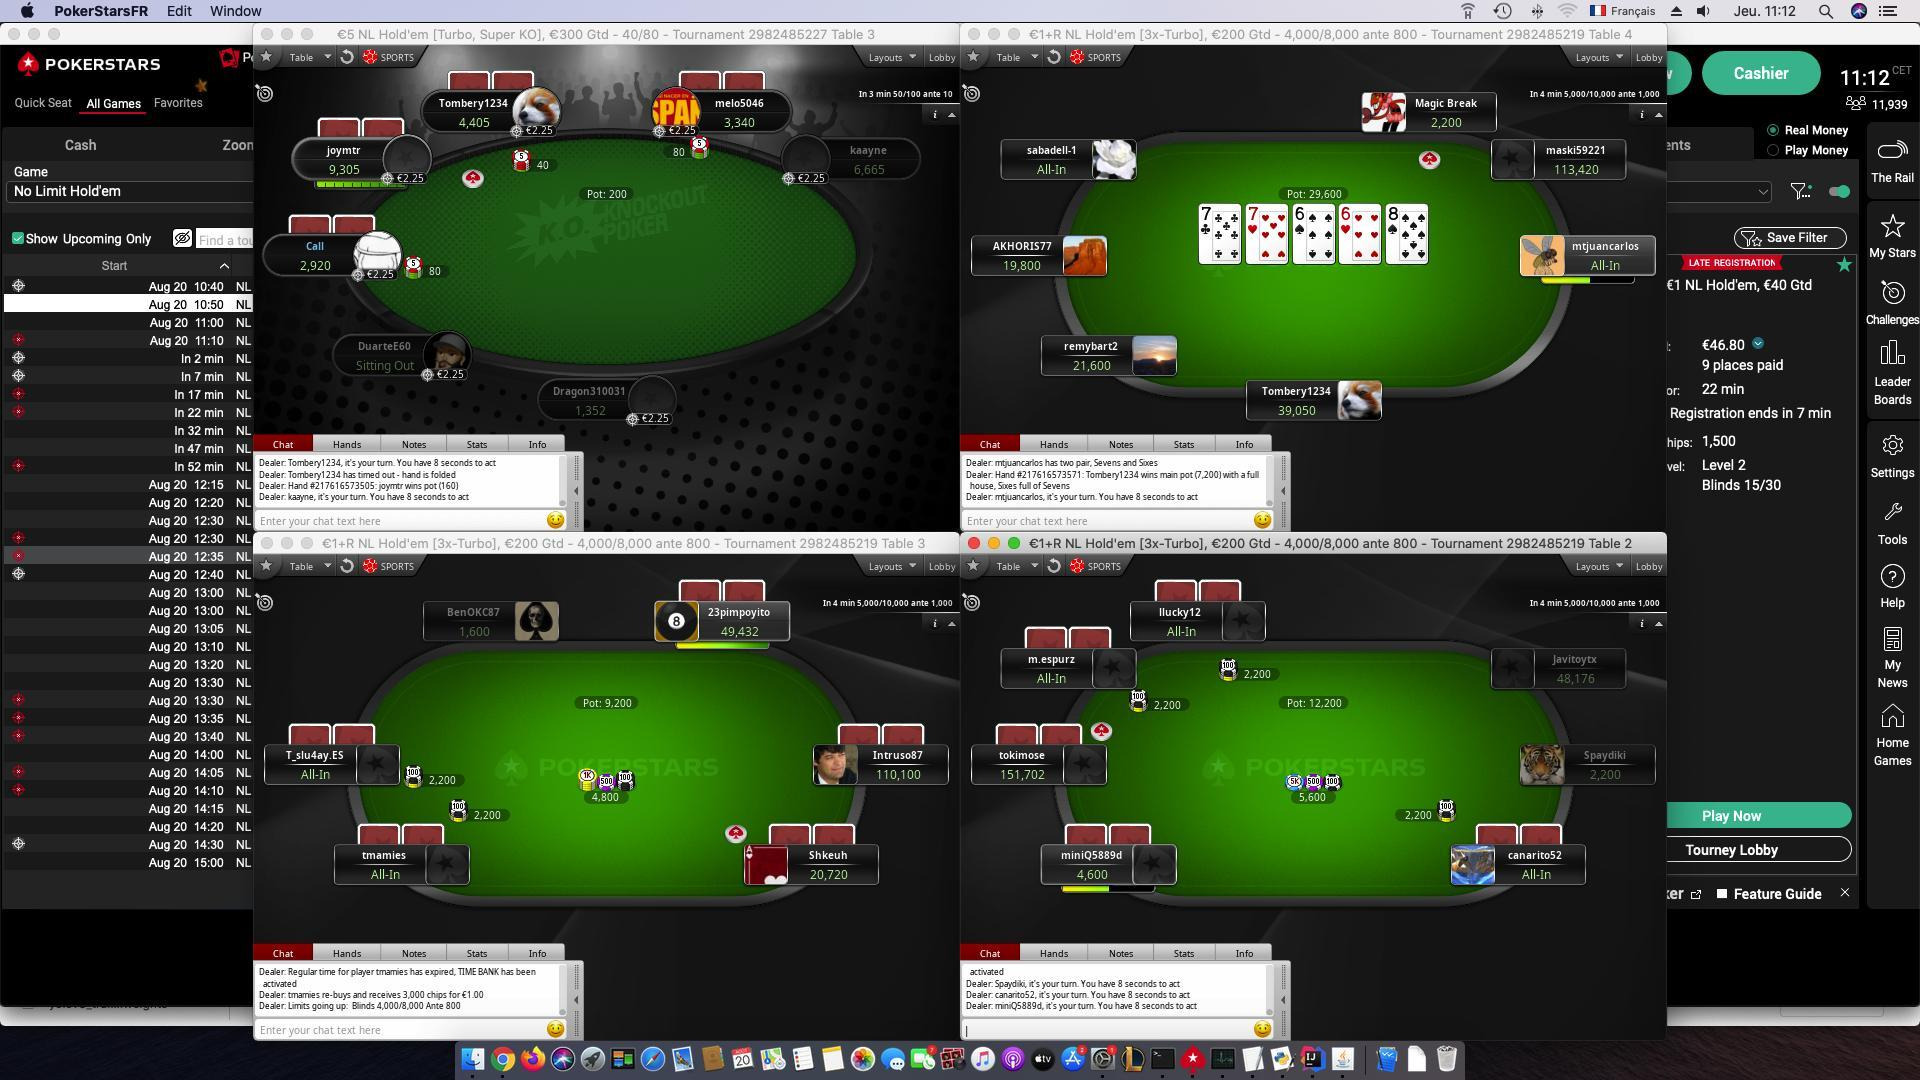6H: (1337, 202, 1352, 236)
6S: (1294, 198, 1313, 237)
7C: (1197, 202, 1216, 239)
7H: (1242, 203, 1261, 239)
8S: (1385, 203, 1399, 237)
